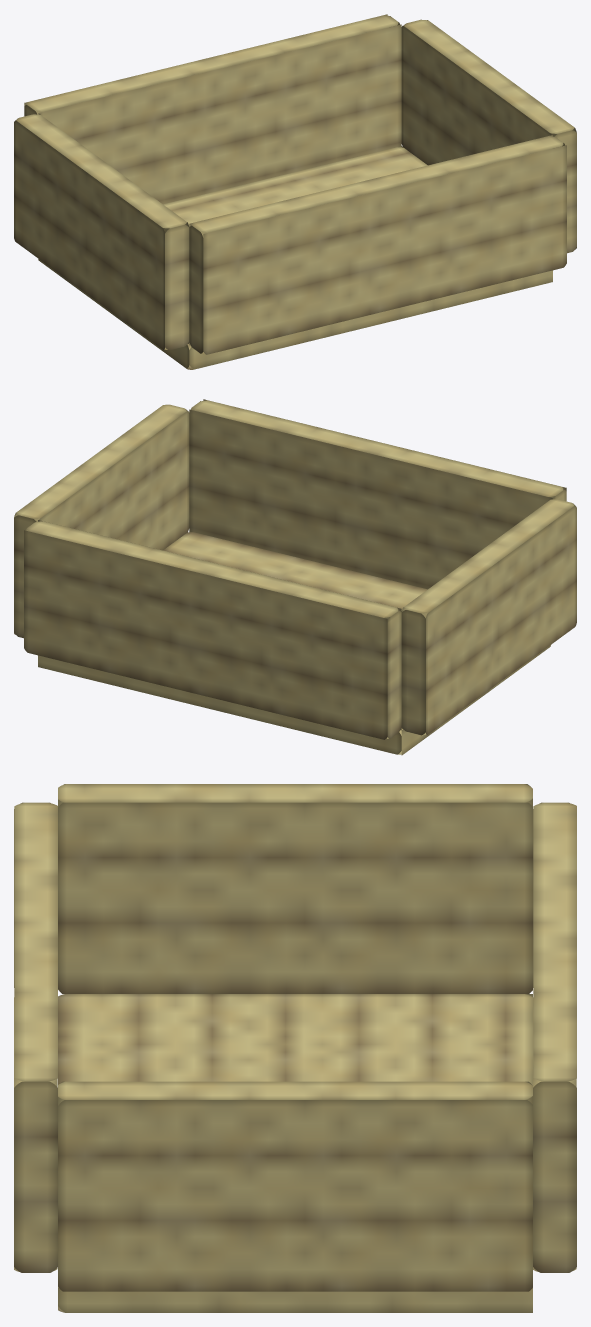
Rendered from boat_birch.fbx.
The picture shows the model from 3 angles, top to bottom: view 1: azimuth 30°, elevation 25°; view 2: azimuth 150°, elevation 25°; view 3: azimuth 270°, elevation 25°; orthographic projection. The views are drawn at different scales.
Visible parts, largest first — view 1: Cube.084; view 2: Cube.084; view 3: Cube.084.
Boxes of the visible parts, x1,y1,x2,y2 form: Cube.084: [14, 14, 576, 369]; Cube.084: [14, 399, 576, 755]; Cube.084: [14, 784, 576, 1312].
Bounding box in the file's own units: 283 × 96.64 × 213.
